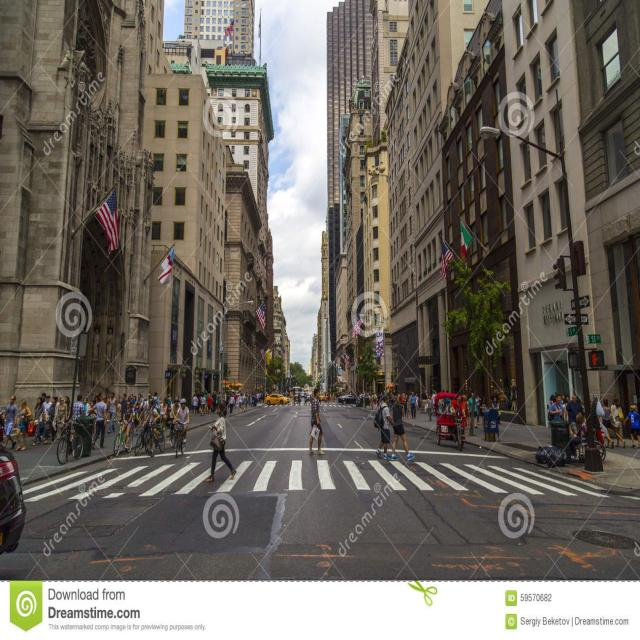body: (203, 401, 238, 484), (389, 392, 416, 462), (372, 394, 393, 461), (308, 387, 326, 457), (137, 394, 157, 451), (113, 400, 134, 452), (143, 398, 161, 454), (172, 396, 190, 451), (15, 398, 33, 452), (90, 394, 107, 450), (2, 394, 18, 452), (610, 395, 626, 450), (44, 395, 60, 444), (623, 404, 640, 449), (31, 395, 45, 446), (53, 396, 69, 440), (564, 392, 580, 435), (42, 394, 53, 444), (170, 396, 182, 441), (602, 396, 612, 449), (106, 392, 118, 434), (594, 424, 613, 450), (332, 390, 370, 403), (547, 394, 564, 422), (451, 393, 466, 421), (467, 392, 478, 429), (506, 378, 518, 411), (40, 392, 48, 440), (72, 393, 85, 422), (158, 396, 168, 432), (89, 400, 98, 437), (575, 411, 587, 438), (133, 400, 142, 436), (424, 392, 434, 422), (474, 393, 482, 426), (461, 395, 468, 430), (409, 391, 417, 420), (490, 389, 500, 412), (120, 392, 128, 420), (134, 392, 144, 414), (581, 396, 591, 417), (436, 392, 444, 418), (64, 396, 71, 424), (561, 398, 569, 422), (421, 389, 428, 415), (404, 390, 410, 420), (0, 400, 5, 436), (206, 392, 213, 417), (82, 396, 90, 417), (90, 390, 102, 404), (432, 389, 438, 416), (200, 393, 207, 416), (115, 398, 123, 418), (444, 390, 450, 416), (376, 391, 388, 404), (228, 392, 235, 414), (203, 389, 209, 414), (413, 392, 419, 416), (192, 392, 198, 415), (259, 388, 268, 403), (216, 390, 222, 412), (211, 390, 217, 412), (400, 392, 405, 416), (237, 391, 243, 411), (153, 391, 160, 408), (491, 397, 500, 410), (441, 389, 446, 412), (167, 392, 173, 411), (198, 392, 203, 414), (406, 398, 411, 420), (388, 390, 393, 411), (243, 392, 248, 413), (246, 390, 252, 406), (128, 391, 136, 403), (296, 391, 302, 406), (561, 391, 570, 401), (233, 392, 238, 409), (303, 390, 308, 406), (281, 388, 289, 398), (290, 392, 296, 405), (370, 392, 374, 411), (317, 392, 323, 404), (548, 393, 554, 404), (176, 393, 180, 409), (327, 389, 331, 404), (323, 390, 328, 402), (226, 391, 231, 403), (292, 390, 296, 404), (256, 390, 260, 402), (394, 391, 398, 402), (309, 394, 312, 405), (402, 392, 407, 398), (191, 391, 195, 398), (142, 393, 146, 398)
